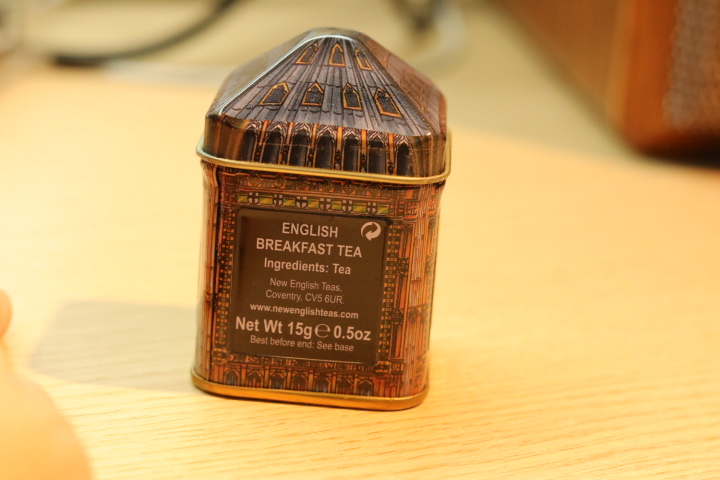Big Ben: (183, 20, 476, 425)
